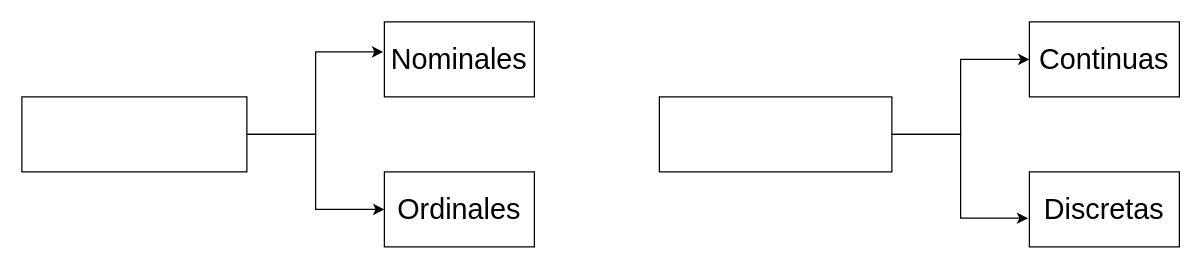
Some shapes in this 1201 by 269 pixel diagram are drawn without their labels. Each missing label, with the centre of its shape:
Atributos: the point at 134,134
Variables: the point at 775,134
